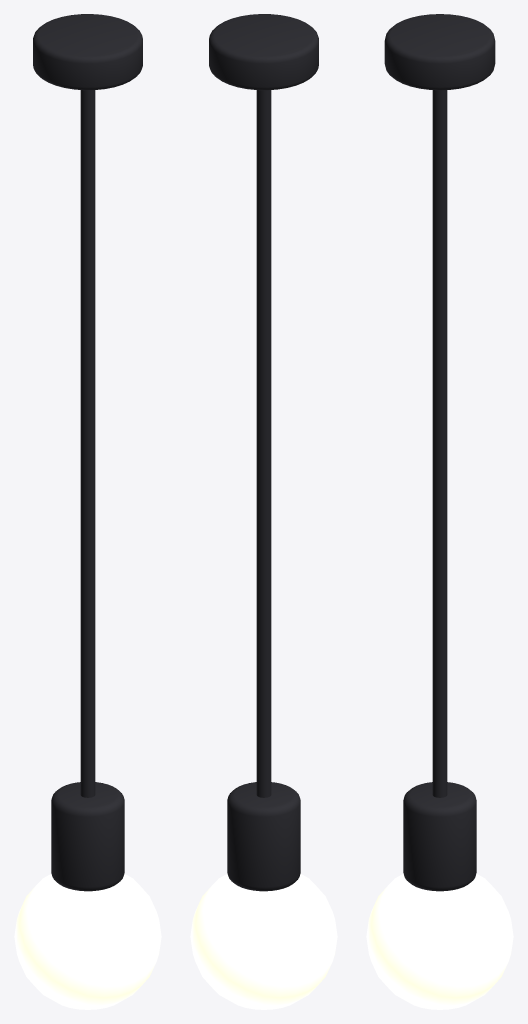
Rendered from bare_bulb.glb.
The picture shows the model from 3 angles, left to right: view 1: azimuth 30°, elevation 25°; view 2: azimuth 150°, elevation 25°; view 3: azimuth 270°, elevation 25°; orthographic projection.
Parts seen in each view (by area): view 1: bare_bulb; view 2: bare_bulb; view 3: bare_bulb.
Part boxes in pixels (x1,y1,x2,y2): bare_bulb: (14,14,161,1009); bare_bulb: (190,14,337,1009); bare_bulb: (366,14,513,1009).
Size of the model in its own units: 0.08 by 0.58 by 0.08.
